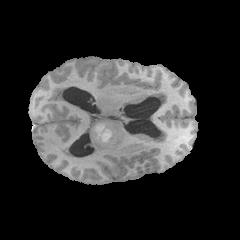glioma: (81, 122, 120, 150)
